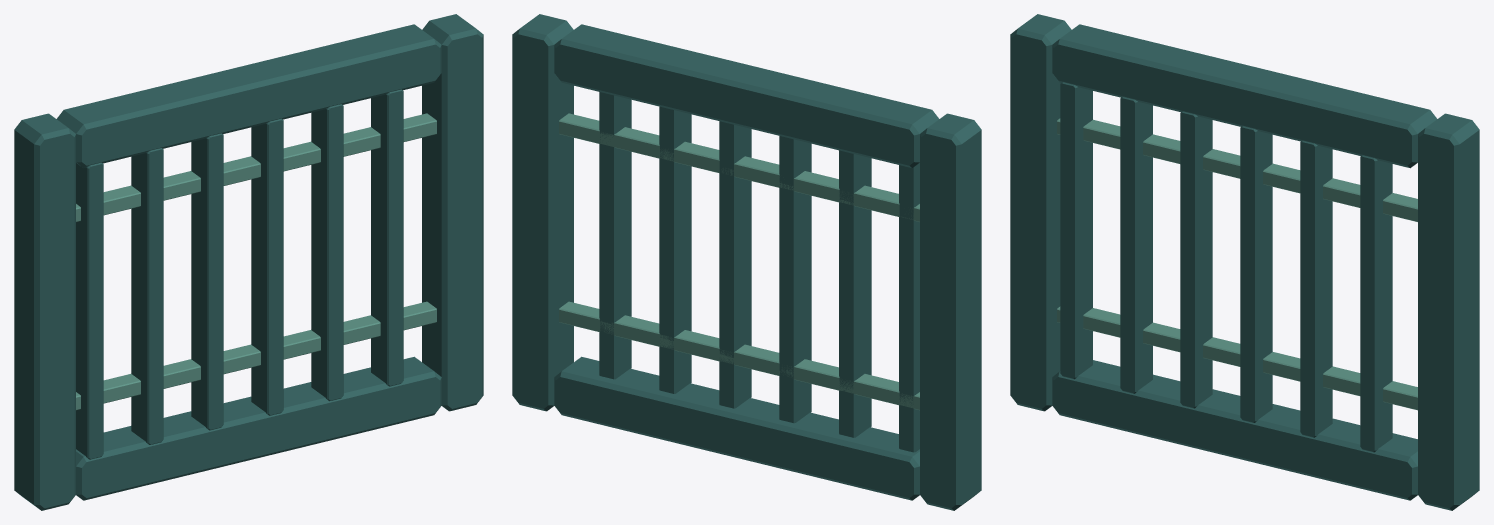
The model's file is wall-grille.glb.
The picture shows the model from 3 angles, left to right: view 1: azimuth 30°, elevation 25°; view 2: azimuth 150°, elevation 25°; view 3: azimuth 330°, elevation 25°; orthographic projection.
Parts seen in each view (by area): view 1: wall-grille__body; view 2: wall-grille__body; view 3: wall-grille__body.
Part boxes in pixels (x1,y1,x2,y2): wall-grille__body: (14,14,483,510); wall-grille__body: (512,14,981,510); wall-grille__body: (1010,14,1479,510).
Bounding box in the file's own units: 1.5 × 1.2 × 0.14.
